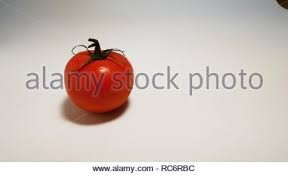tomato: (64, 49, 134, 112)
